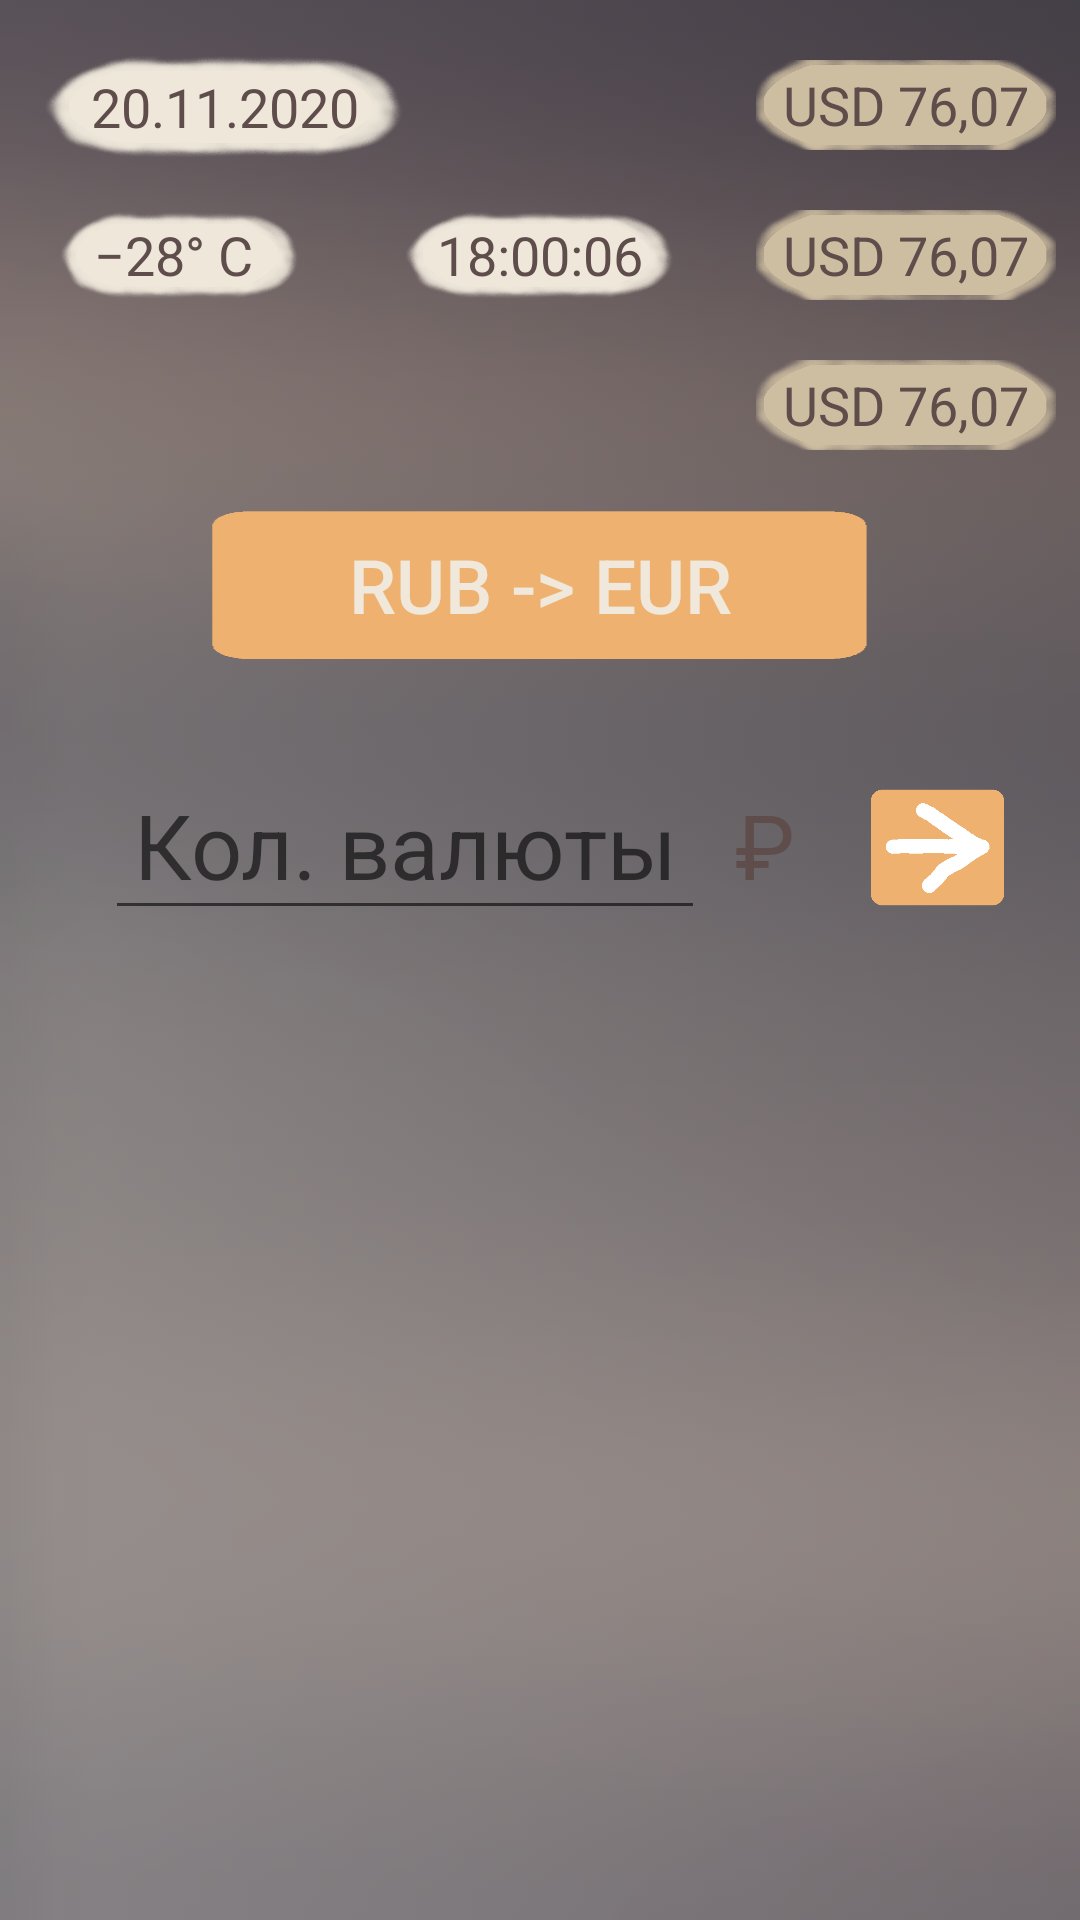

Screen size 1080×1920. Icon name, then its center in pixels as (x=x, y=y):
sent: (x=937, y=847)
